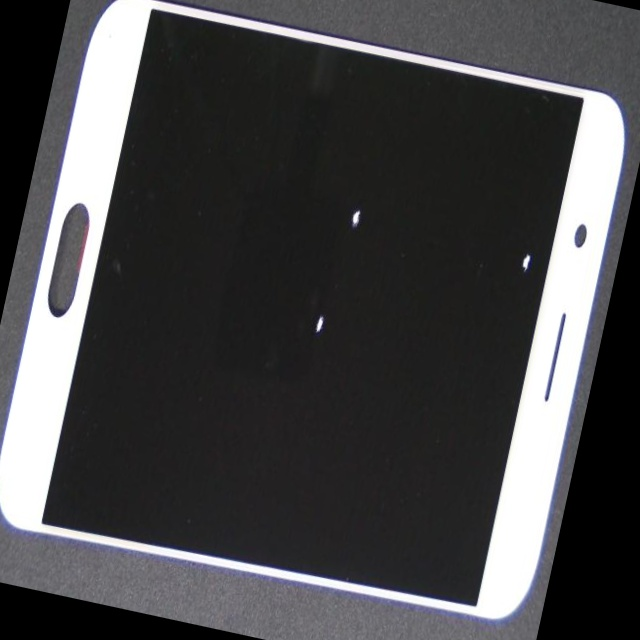stain: (138, 56, 514, 513), (274, 27, 640, 378), (199, 84, 559, 359)
